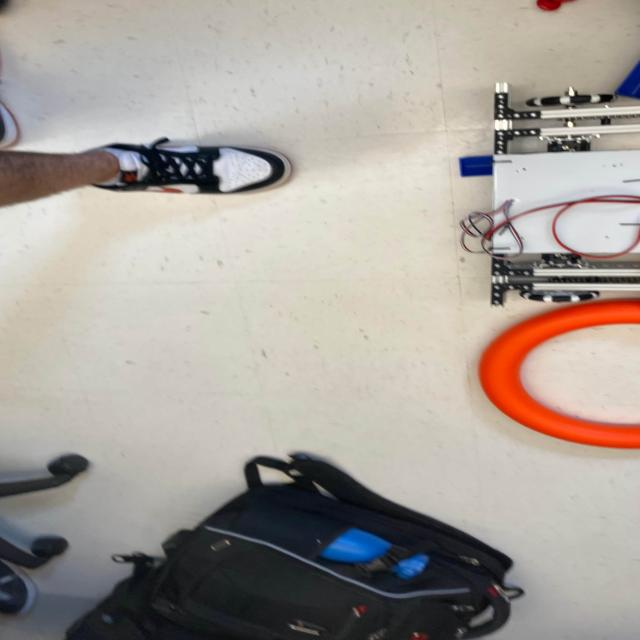blue-specimen: (614, 61, 640, 99), (459, 155, 493, 177)
